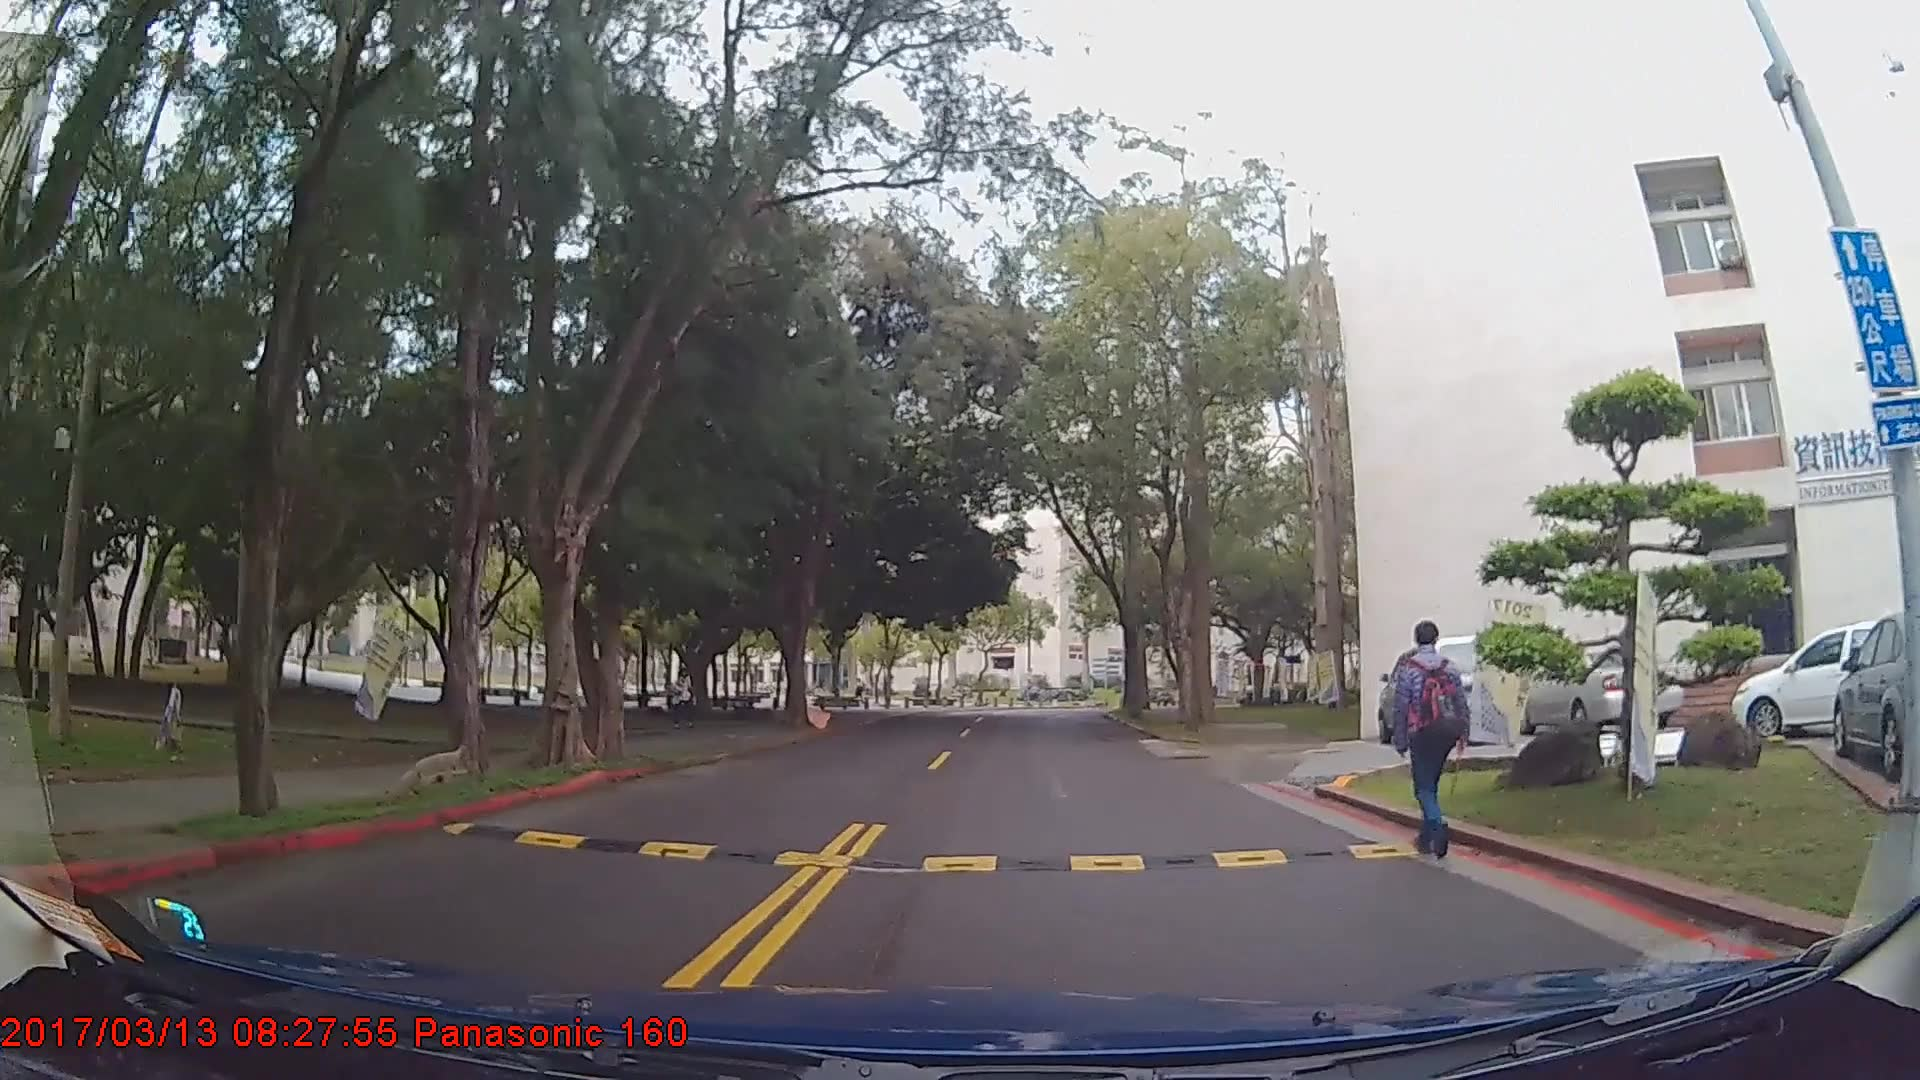pedestrian: (1393, 616, 1473, 862), (671, 668, 700, 732)
vehicle: (1729, 621, 1903, 741)
